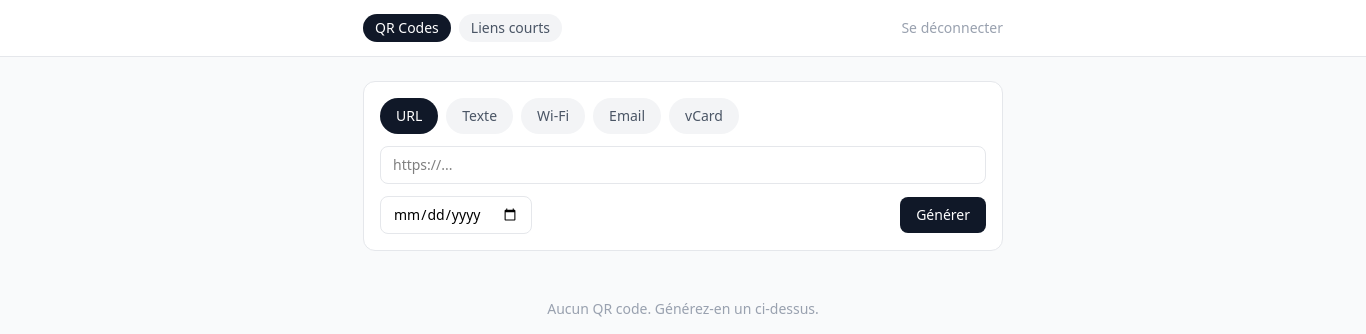
it: LinksSection (url-shortener) › should render a URL input and "Créer" button in the create form
Click the button with test id "tab-links".
click(510, 28)  # box [459,14,562,42]
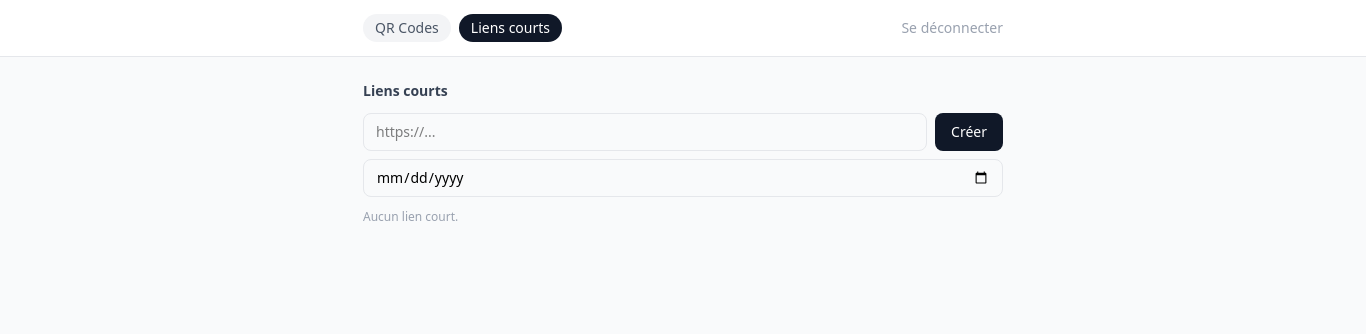
expect the field with test id "link-url-input" is shown: met, box [363,113,927,151]
expect the button "Créer" is shown: met, box [935,113,1003,151]
